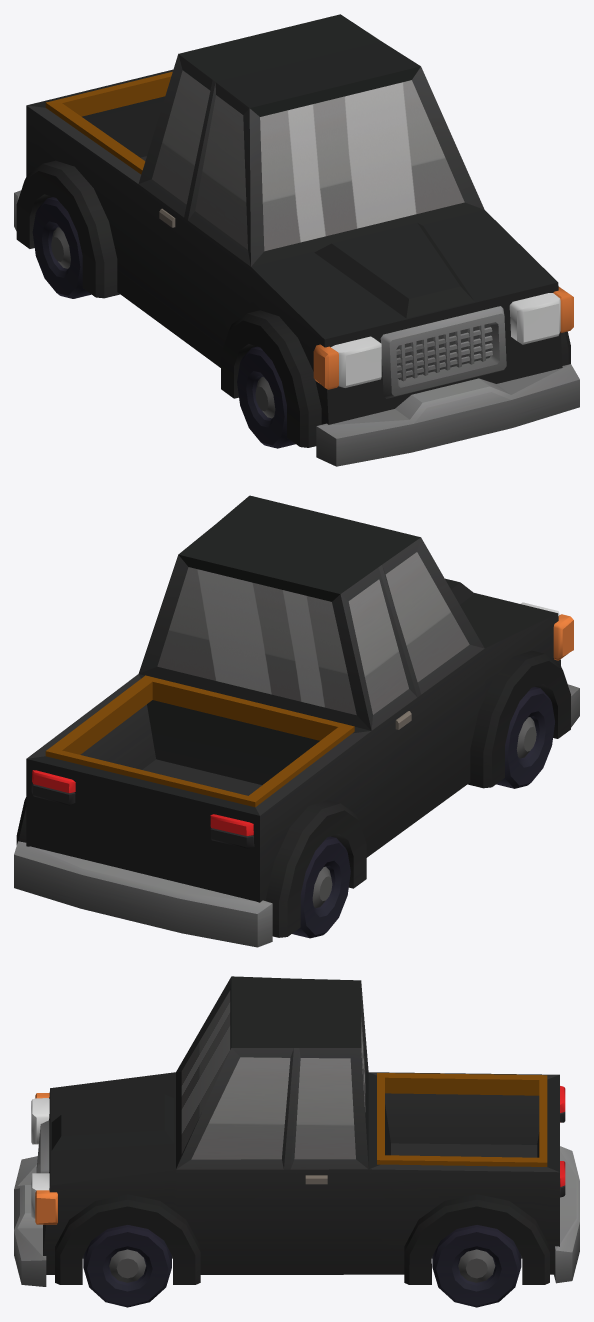
Rendered from PickUp_10.glb.
3 renders of one model, top to bottom at view 1: azimuth 30°, elevation 25°; view 2: azimuth 150°, elevation 25°; view 3: azimuth 270°, elevation 25°, orthographic. The views are drawn at different scales.
Parts seen in each view (by area): view 1: PickUp_10, BWhel_BR, BWhel_FR; view 2: PickUp_10, BWhel_BR, BWhel_FR; view 3: PickUp_10, BWhel_BL, BWhel_FL.
Part boxes in pixels (<box>): PickUp_10: <box>14,14,579,466</box>; BWhel_BR: <box>32,197,91,298</box>; BWhel_FR: <box>237,346,295,448</box>; PickUp_10: <box>14,495,579,947</box>; BWhel_BR: <box>292,836,350,938</box>; BWhel_FR: <box>496,687,554,788</box>; PickUp_10: <box>14,976,579,1286</box>; BWhel_BL: <box>432,1225,521,1307</box>; BWhel_FL: <box>83,1225,171,1307</box>.
Bounding box in the file's own units: 1.09 × 1.08 × 2.3.
Materials: 6 (6 with a texture image).
